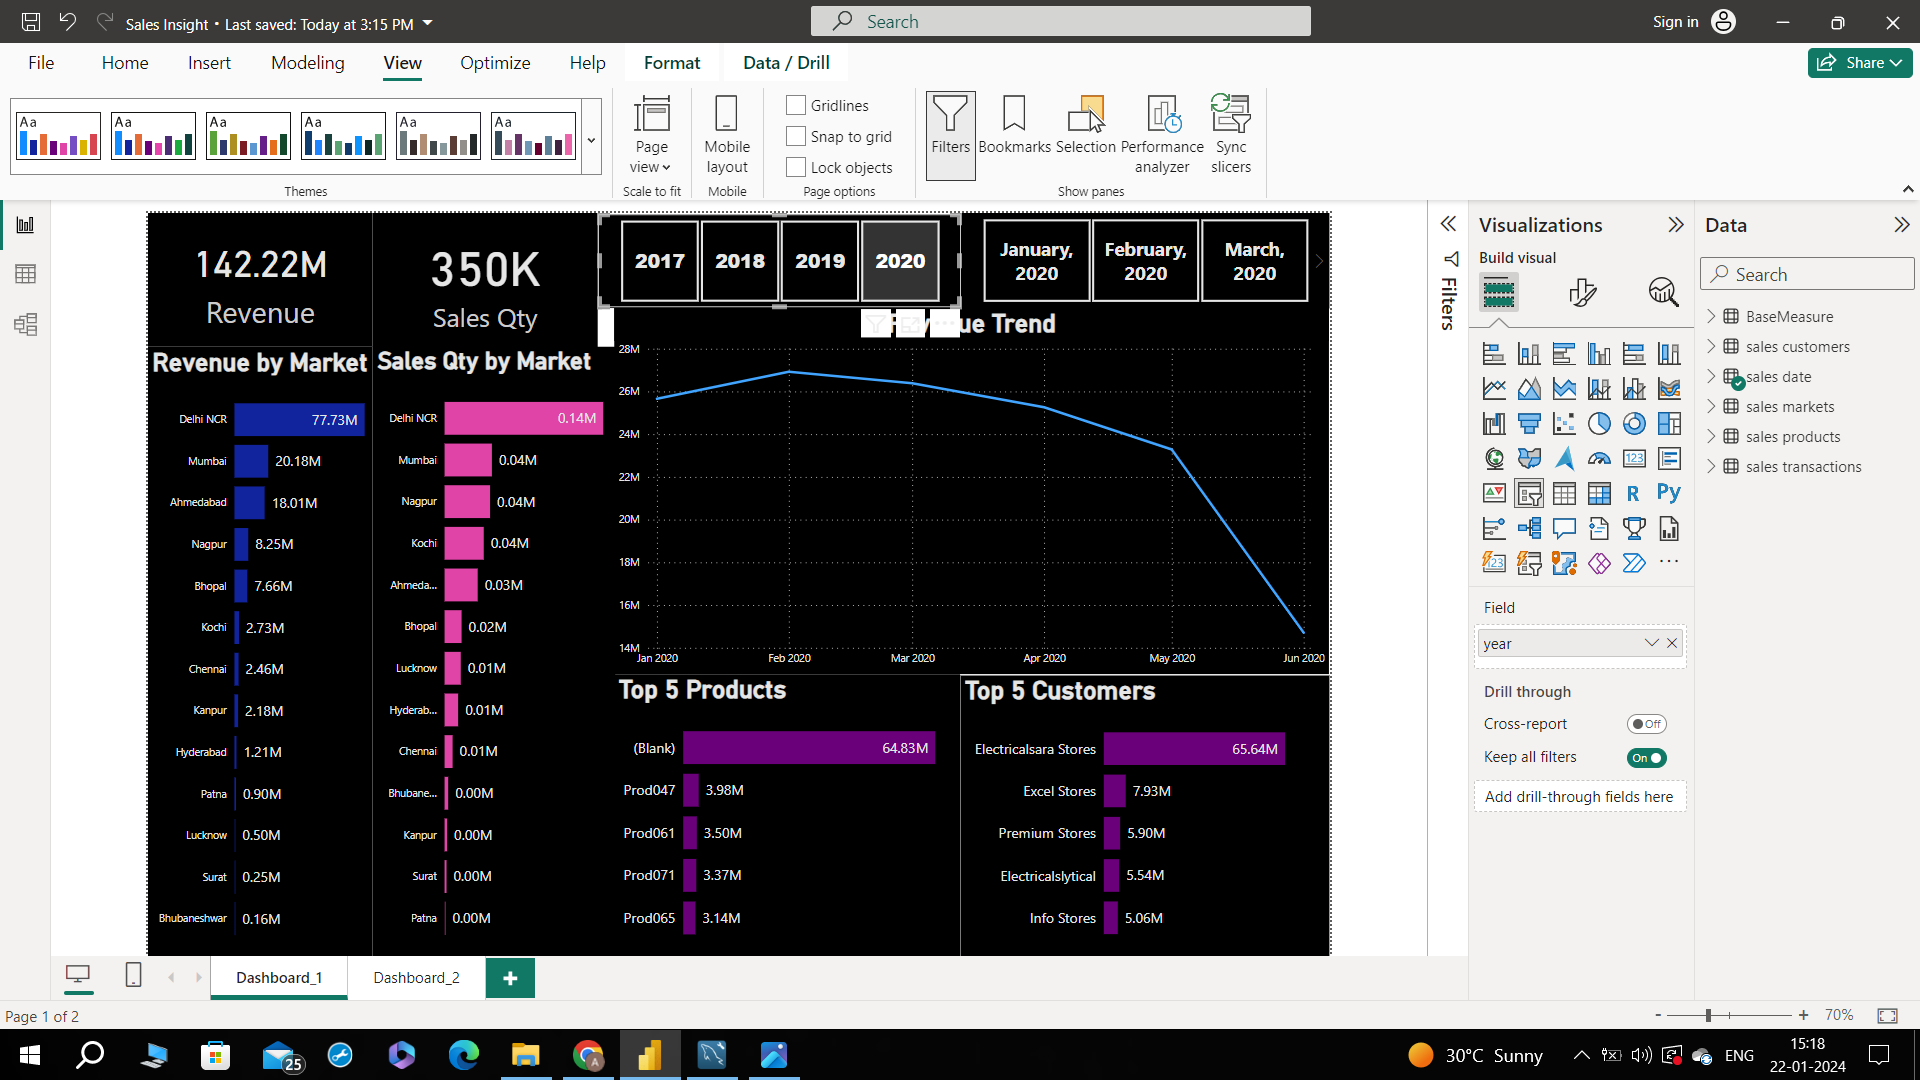

What the dashboard file says about the page in this screenshot:
{"tool":"powerbi","page":{"name":"Dashboard_1","canvas":[1350,850],"ordinal":0},"visuals":[{"type":"card","fields":{"Values":["BaseMeasure.Revenue"]},"box":[0,0,257.1,152.9],"z":0},{"type":"card","fields":{"Values":["BaseMeasure.Sales Qty"]},"box":[256.7,0,256.7,153.3],"z":1000},{"type":"barChart","title":"Revenue by Market","fields":{"Y":["BaseMeasure.Revenue"],"Category":["sales markets.markets_name"]},"box":[0,152.9,257.1,697.1],"z":2000},{"type":"barChart","title":"Sales Qty by Market","fields":{"Y":["BaseMeasure.Sales Qty"],"Category":["sales markets.markets_name"]},"box":[256.7,153.3,276.7,696.7],"z":3000},{"type":"slicer","title":"Year","fields":{"Values":["sales date.year"]},"box":[514.3,1.4,414.3,107.1],"z":4000},{"type":"slicer","fields":{"Values":["sales date.cy_date"]},"box":[928.6,0,421.4,108.6],"z":5000},{"type":"barChart","title":"Top 5 Customers","fields":{"Y":["BaseMeasure.Revenue"],"Category":["sales customers.custmer_name"]},"box":[928.6,528.6,421.4,321.4],"z":6000},{"type":"barChart","title":"Top 5 Products","fields":{"Y":["BaseMeasure.Revenue"],"Category":["sales products.product_code"]},"box":[533.3,526.7,395,323.3],"z":7000},{"type":"lineChart","title":"Revenue Trend","fields":{"Y":["BaseMeasure.Revenue"],"Category":["sales date.cy_date"]},"box":[532.9,108.6,817.1,418.6],"z":8000}]}

Visuals, with their boxes on the page's 1350x850 design canvas (x1, y1, x2, y2). These are canvas units, not pixel positions in the 1920x1080 screenshot, which may show the page scaled, cropped or inside an application window:
card - BaseMeasure.Revenue: box(0, 0, 257, 153)
card - BaseMeasure.Sales Qty: box(257, 0, 513, 153)
"Revenue by Market" barChart: box(0, 153, 257, 850)
"Sales Qty by Market" barChart: box(257, 153, 533, 850)
"Year" slicer: box(514, 1, 929, 108)
slicer - sales date.cy_date: box(929, 0, 1350, 109)
"Top 5 Customers" barChart: box(929, 529, 1350, 850)
"Top 5 Products" barChart: box(533, 527, 928, 850)
"Revenue Trend" lineChart: box(533, 109, 1350, 527)
